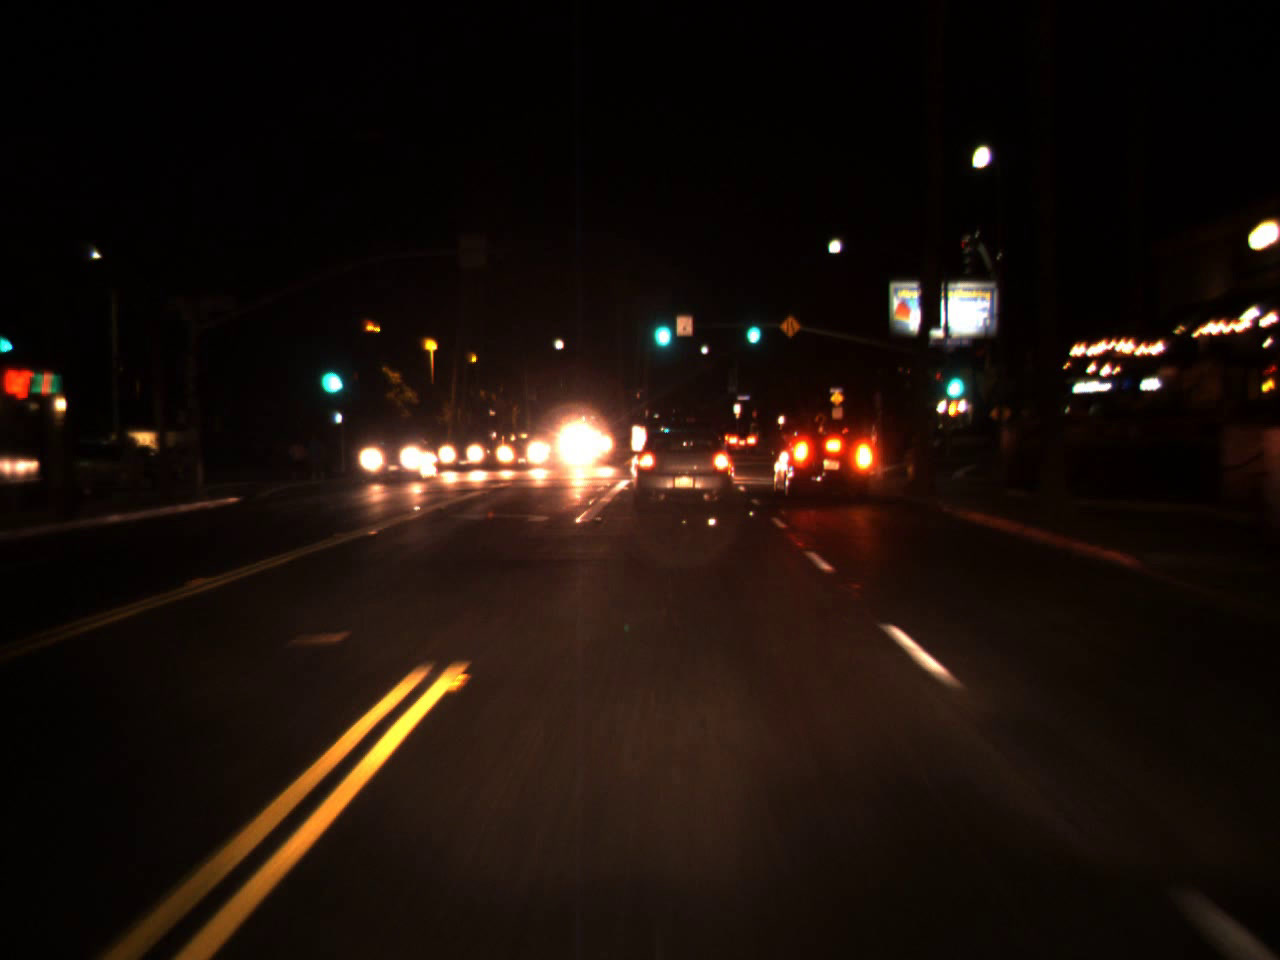go: (314, 344, 344, 401), (938, 350, 968, 407), (649, 298, 674, 355), (742, 311, 763, 344)
